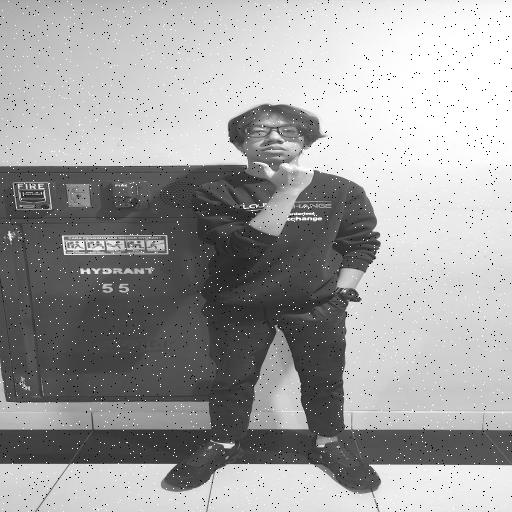back: (250, 157, 323, 198)
